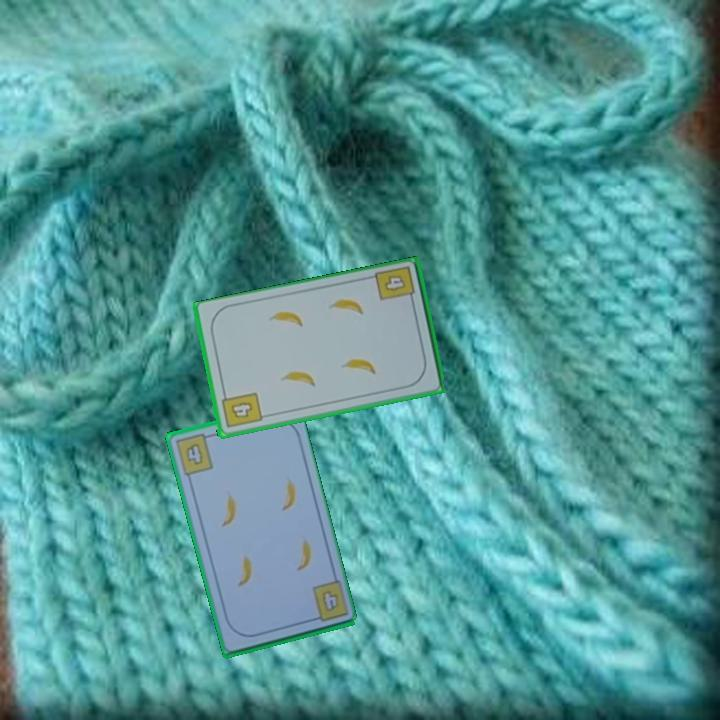4b: (171, 430, 216, 478), (372, 263, 418, 307), (218, 388, 264, 431), (318, 586, 341, 615)
